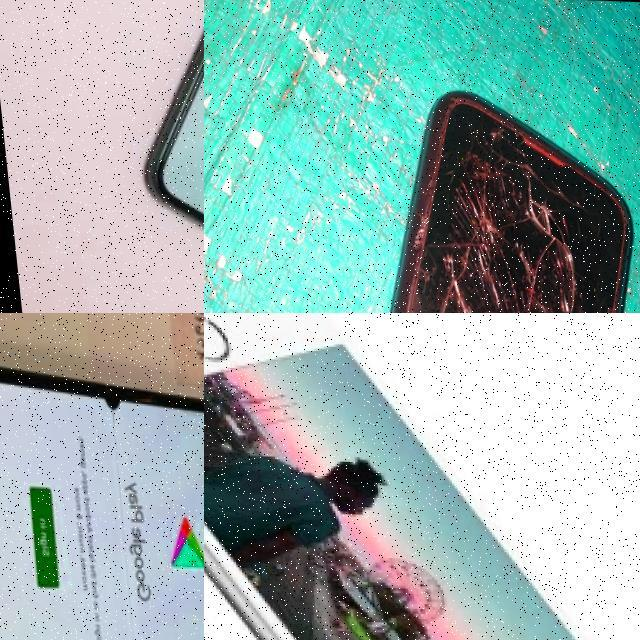dead pixel: (87, 376, 125, 427)
screen crack: (364, 114, 634, 313)
